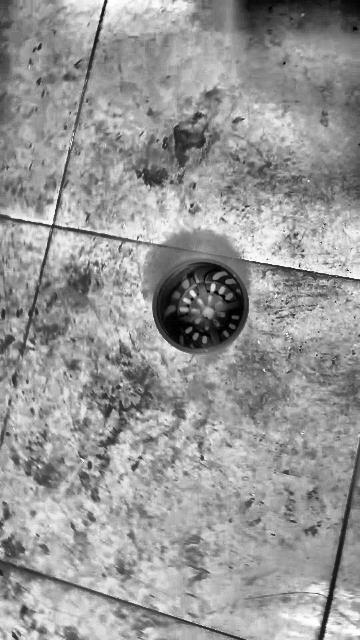pot: (153, 258, 249, 352)
